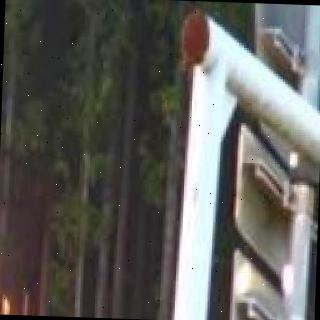fire: (0, 136, 18, 315)
